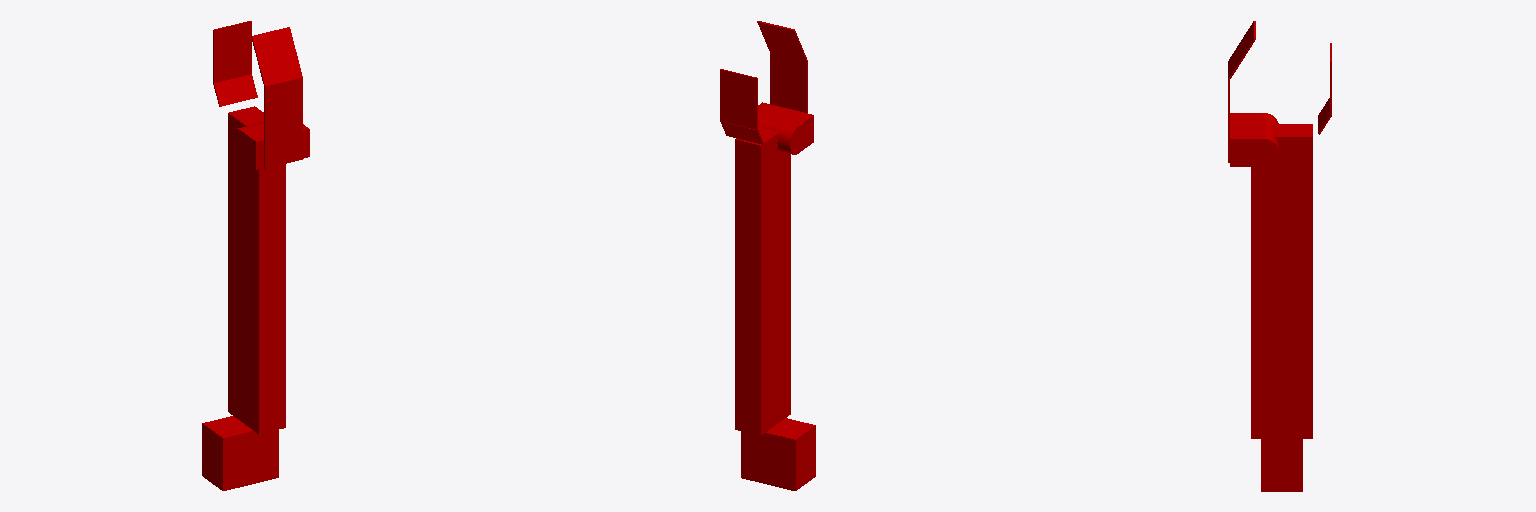
URDF robot description (crane):
<?xml version="1.0"?>
<robot name="crane">
 
  <link name="base_link">
    <visual>
      <origin xyz="0 0 0.0227" rpy="0 0 0" />
      <geometry>
        <box size="0.0499 0.032 0.0454" />
      </geometry>
      <material name="red">
        <color rgba=".8 0 0 1" />
      </material>
    </visual>
  </link>
 
  <joint name="joint1" type="revolute">
    <parent link="base_link"/>
    <child link="link1"/>
    <origin xyz="0.0145 0 0.0454" rpy="0 0 0" />
    <axis xyz="0 0 1" />
    <limit lower="-2.61" upper="2.61" effort="0.5" velocity="6.0" />
  </joint>
 
  <link name="link1">
    <visual>
      <origin xyz="0 0 0.013" rpy="0 0 0" />
      <geometry>
        <box size="0.024 0.0475 0.026" />
      </geometry>
      <material name="red" />
    </visual>
 
    <visual>
      <origin xyz="0 0 0.026" rpy="1.57079632675 0 0" />
      <geometry>
        <cylinder radius="0.012" length="0.0475" />
      </geometry>
      <material name="red" />
    </visual>
  </link>
 
  <joint name="joint2" type="revolute">
    <parent link="link1"/>
    <child link="link2"/>
    <origin xyz="0 0 0.026" rpy="0 0 0" />
    <axis xyz="0 1 0" />
    <limit lower="-1.75" upper="1.75" effort="0.5" velocity="6.0" />
  </joint>
 
  <link name="link2">
    <visual>
      <origin xyz="0 0 0" rpy="1.57079632675 0 0" />
      <geometry>
        <cylinder radius="0.012" length="0.0475" />
      </geometry>
      <material name="red" />
    </visual>
 
    <visual>
      <origin xyz="0 0 0.0415" rpy="0 0 0" />
      <geometry>
        <box size="0.024 0.0475 0.083" />
      </geometry>
      <material name="red" />
    </visual>
 
    <visual>
      <origin xyz="0 0 0.083" rpy="1.57079632675 0 0" />
      <geometry>
        <cylinder radius="0.012" length="0.0475" />
      </geometry>
      <material name="red" />
    </visual>
  </link>
 
  <joint name="joint3" type="revolute">
    <parent link="link2"/>
    <child link="link3"/>
    <origin xyz="0 0 0.083" rpy="0 0 0" />
    <axis xyz="0 -1 0" />
    <limit lower="-2.55" upper="2.55" effort="0.5" velocity="6.0" />
  </joint>
 
  <link name="link3">
    <visual>
      <origin xyz="0 0 0" rpy="1.57079632675 0 0" />
      <geometry>
        <cylinder radius="0.012" length="0.0475" />
      </geometry>
      <material name="red" />
    </visual>
 
    <visual>
      <origin xyz="0 0 0.04675" rpy="0 0 0" />
      <geometry>
        <box size="0.024 0.0475 0.0935" />
      </geometry>
      <material name="red" />
    </visual>
 
    <visual>
      <origin xyz="0 0 0.0935" rpy="1.57079632675 0 0" />
      <geometry>
        <cylinder radius="0.012" length="0.0475" />
      </geometry>
      <material name="red" />
    </visual>
  </link>
 
  <joint name="joint4" type="revolute">
    <parent link="link3"/>
    <child link="link4"/>
    <origin xyz="0 0 0.0935" rpy="0 0 0" />
    <axis xyz="0 -1 0" />
    <limit lower="-1.80" upper="1.80" effort="0.5" velocity="6.0" />
  </joint>
 
  <link name="link4">
    <visual>
      <origin xyz="0 0 0" rpy="1.57079632675 0 0" />
      <geometry>
        <cylinder radius="0.012" length="0.0475" />
      </geometry>
      <material name="red" />
    </visual>
 
    <visual>
      <origin xyz="0 0 0.0227" rpy="0 0 0" />
      <geometry>
        <box size="0.024 0.0475 0.061" />
      </geometry>
      <material name="red" />
    </visual>
 
    <visual>
      <origin xyz="0 0.03295 0.065727241" rpy="-0.52359878 0 0" />
      <geometry>
        <box size="0.034 0.0014 0.019" />
      </geometry>
      <material name="red" />
    </visual>
 
    <visual>
      <origin xyz="0 0.0377 0.09665" rpy="0 0 0" />
      <geometry>
        <box size="0.034 0.0014 0.0454" />
      </geometry>
      <material name="red" />
    </visual>
  </link>
 
  <joint name="joint5" type="revolute">
    <parent link="link4"/>
    <child link="link5"/>
    <origin xyz="0 -0.0145 0.045" rpy="0 0 0" />
    <axis xyz="-1 0 0" />
    <limit lower="-0.69" upper="0.69" effort="0.5" velocity="6.0" />
  </joint>
 
  <link name="link5">
    <visual>
      <origin xyz="0 0 0" rpy="0 1.57079632675 0" />
      <geometry>
        <cylinder radius="0.012" length="0.0475" />
      </geometry>
      <material name="red" />
    </visual>
 
    <visual>
      <origin xyz="0 -0.013 0" rpy="0 0 0" />
      <geometry>
        <box size="0.0475 0.026 0.024" />
      </geometry>
      <material name="red" />
    </visual>
 
    <visual>
      <origin xyz="0 -0.0267 0.023" rpy="0 0 0" />
      <geometry>
        <box size="0.034 0.0014 0.070" />
      </geometry>
      <material name="red" />
    </visual>
 
    <visual>
      <origin xyz="0 -0.0166252378 0.07545" rpy="-0.52359878 0 0" />
      <geometry>
        <box size="0.034 0.0014 0.040299" />
      </geometry>
      <material name="red" />
    </visual>
  </link>
 
</robot>

--- Facts derived from the render (not from the file) ---
Views: 3 orthographic renders of the robot side by side, from view 1: azimuth 30°, elevation 25°; view 2: azimuth 150°, elevation 25°; view 3: azimuth 270°, elevation 25°.
Model crane with 6 links and 5 joints (5 revolute), rooted at base_link, posed all joints at 0.
Visible links, largest first — view 1: link5, link3, link2, link4, base_link, link1; view 2: link3, link4, link2, link5, base_link, link1; view 3: link3, link2, link4, link5, base_link, link1.
Boxes of the visible links, x1,y1,x2,y2 form: link5: (232, 27, 309, 169); link3: (228, 180, 285, 306); link2: (228, 285, 285, 403); link4: (213, 21, 285, 205); base_link: (202, 416, 278, 490); link1: (228, 382, 285, 433); link3: (735, 184, 790, 311); link4: (720, 69, 790, 213); link2: (735, 291, 790, 406); link5: (757, 21, 813, 154); base_link: (741, 418, 815, 490); link1: (735, 385, 790, 435); link3: (1251, 200, 1312, 309); link2: (1251, 310, 1312, 407); link4: (1251, 43, 1331, 208); link5: (1228, 21, 1278, 166); base_link: (1261, 439, 1302, 491); link1: (1251, 408, 1312, 438).
Size in the robot's own frame: 0.0632 by 0.0803 by 0.3861 metres.
Geometry: primitives only (box / cylinder / sphere), no mesh files.